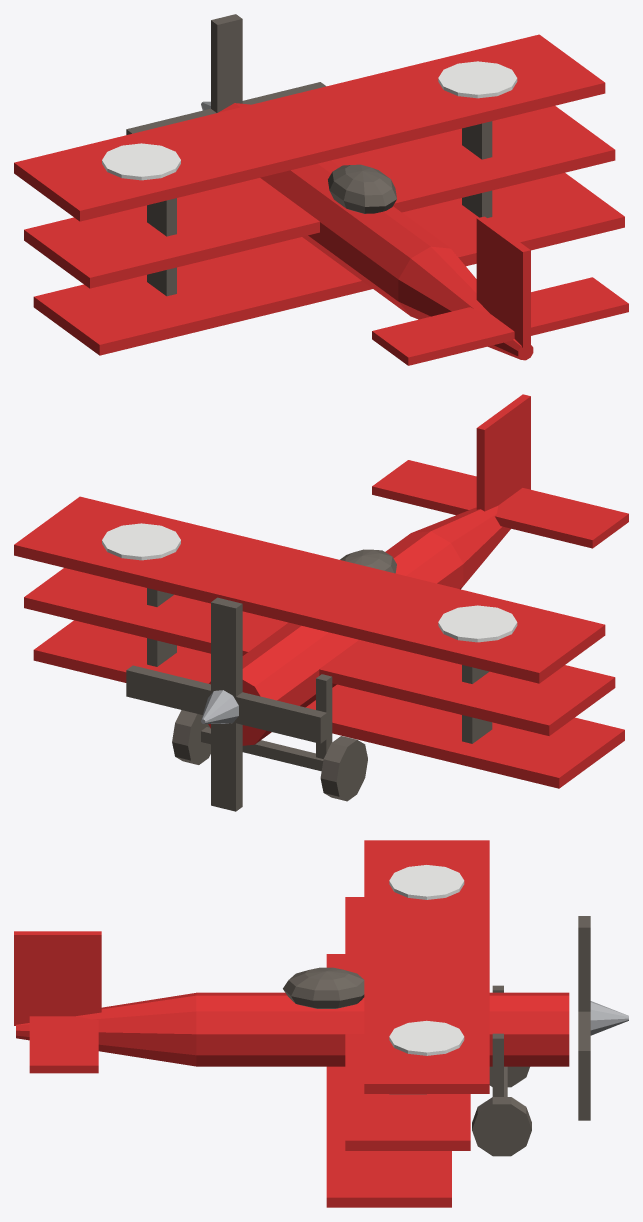
File: boss-1-red.glb
3 views of the same model, one above another, from view 1: azimuth 30°, elevation 25°; view 2: azimuth 150°, elevation 25°; view 3: azimuth 270°, elevation 25° (orthographic). The views are drawn at different scales.
Parts seen in each view (by area): view 1: boss-1-red; view 2: boss-1-red; view 3: boss-1-red.
Part boxes in pixels (bbox=[...]): boss-1-red: bbox=[14, 14, 628, 365]; boss-1-red: bbox=[14, 394, 628, 811]; boss-1-red: bbox=[14, 840, 628, 1207].
Size of the model in its own units: 4.6 by 1.73 by 4.91.
